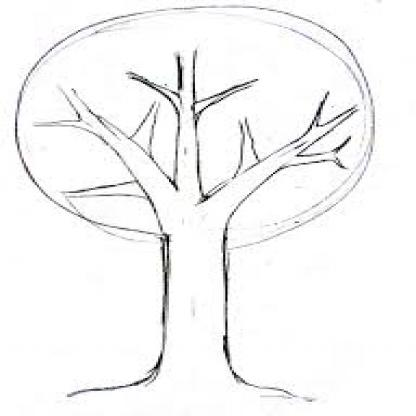branch_cut: (49, 50, 352, 206)
crown_mushroom: (11, 6, 379, 249)
trunk_straight: (152, 263, 242, 348)
